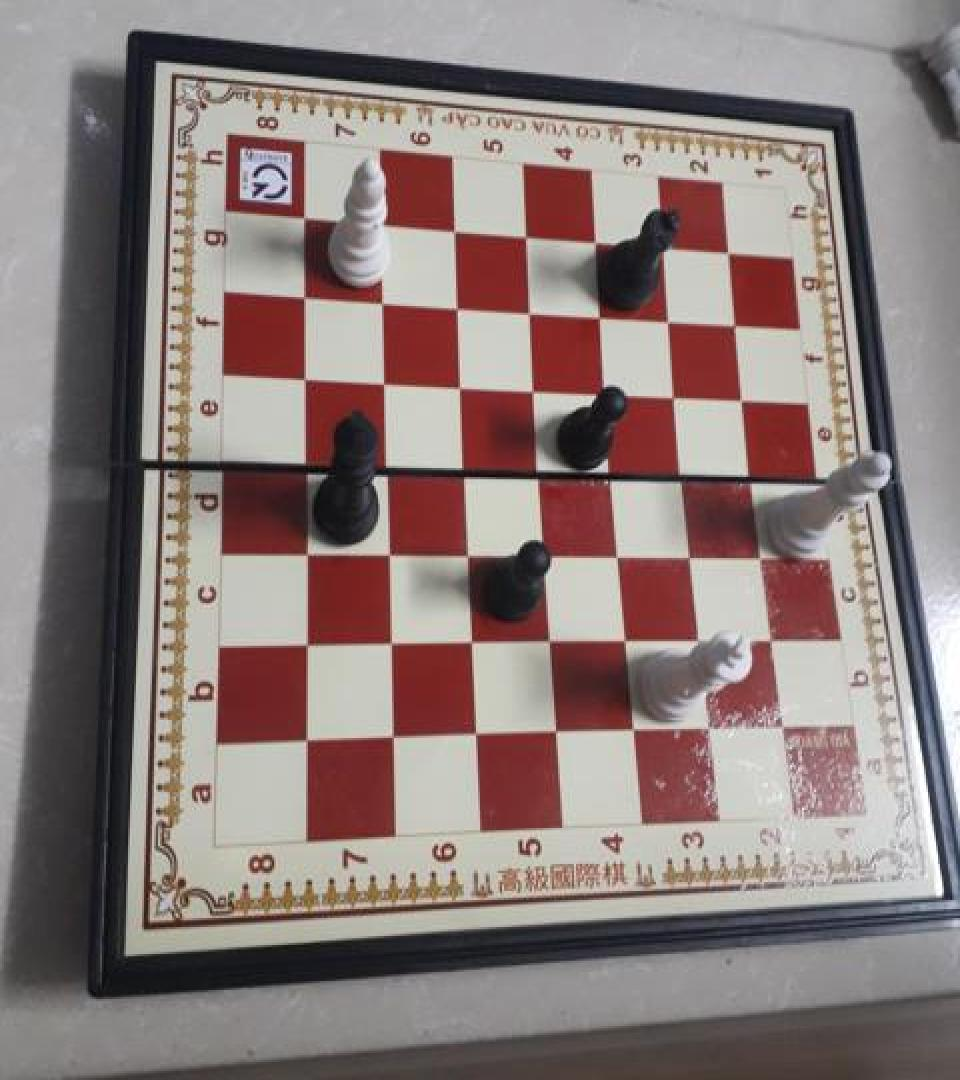xcorner: (295, 723, 323, 755), (382, 720, 410, 752), (546, 713, 574, 745), (771, 704, 799, 736), (379, 625, 407, 657), (461, 623, 489, 655), (540, 622, 568, 654), (616, 621, 644, 653), (293, 533, 321, 565), (377, 534, 405, 566), (457, 534, 485, 566), (535, 534, 563, 566), (609, 534, 637, 566), (681, 534, 709, 566), (751, 535, 779, 567), (293, 444, 321, 476), (529, 450, 557, 482), (602, 452, 630, 484), (673, 453, 701, 485), (292, 360, 320, 392), (372, 363, 400, 395), (524, 370, 552, 402), (596, 372, 624, 404), (732, 379, 760, 411), (370, 282, 398, 314), (446, 288, 474, 320), (519, 292, 547, 324), (589, 297, 617, 329), (658, 300, 686, 332), (292, 200, 320, 232), (443, 211, 471, 243), (514, 217, 542, 249), (650, 228, 678, 260), (715, 234, 743, 266), (466, 717, 494, 748), (624, 710, 652, 741), (699, 708, 727, 739), (294, 627, 322, 658), (690, 620, 718, 651), (760, 618, 788, 649), (375, 447, 403, 478), (453, 449, 481, 480), (741, 456, 769, 487), (450, 367, 478, 398), (665, 376, 693, 407), (292, 278, 320, 309), (723, 305, 751, 336), (368, 206, 396, 237), (583, 223, 611, 254)
